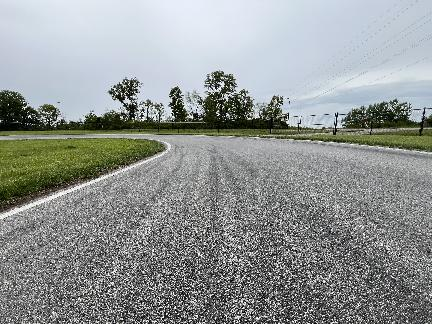Grass: (0, 139, 164, 205), (265, 135, 431, 151), (0, 129, 269, 135)
Lane: (0, 135, 431, 323)
